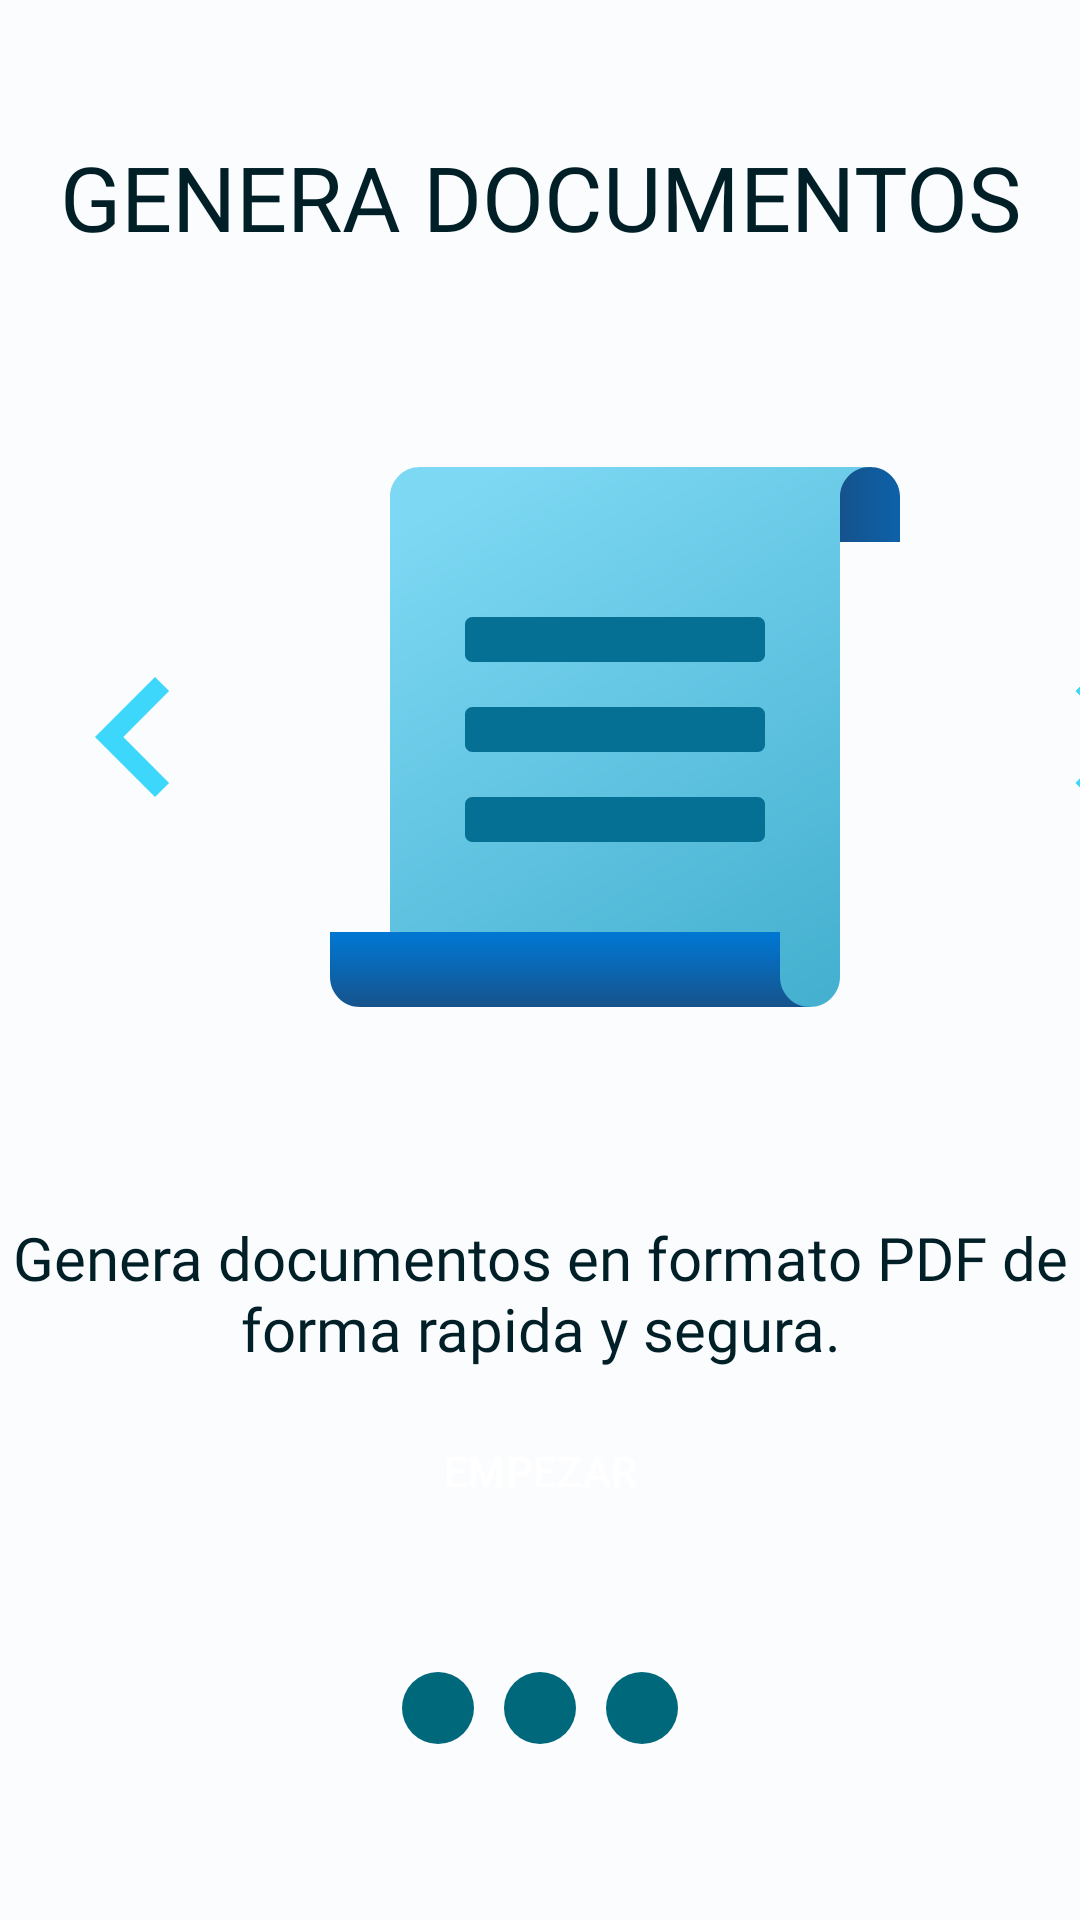

Icons on this 1080px x 1920px Android screen, each with the point to tap as (x=x, y=y):
before: (x=132, y=737)
